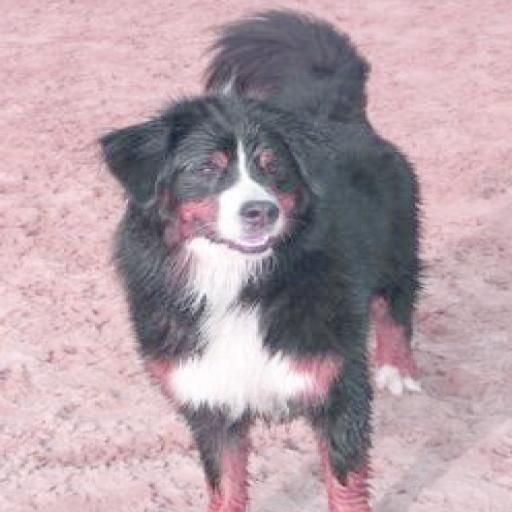dog_face: (107, 111, 320, 252)
